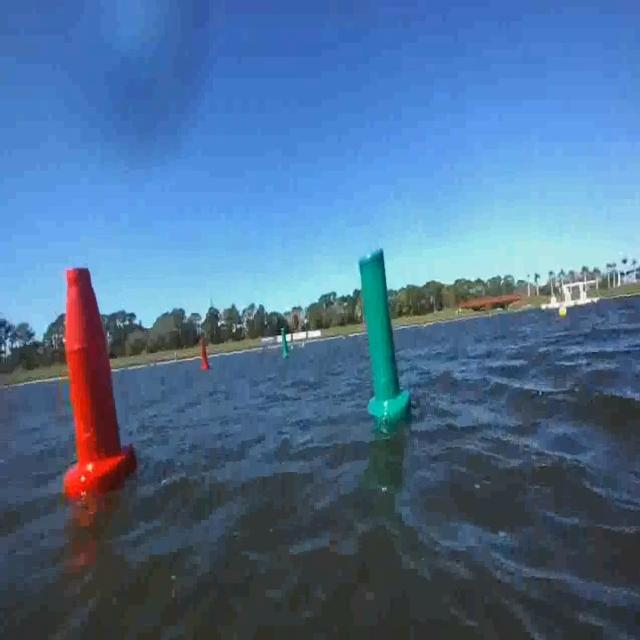green-column-buoy: (356, 246, 410, 419), (281, 328, 290, 359)
red-column-buoy: (61, 266, 136, 498), (200, 340, 211, 370)
yellow-buoy: (560, 306, 568, 320)
